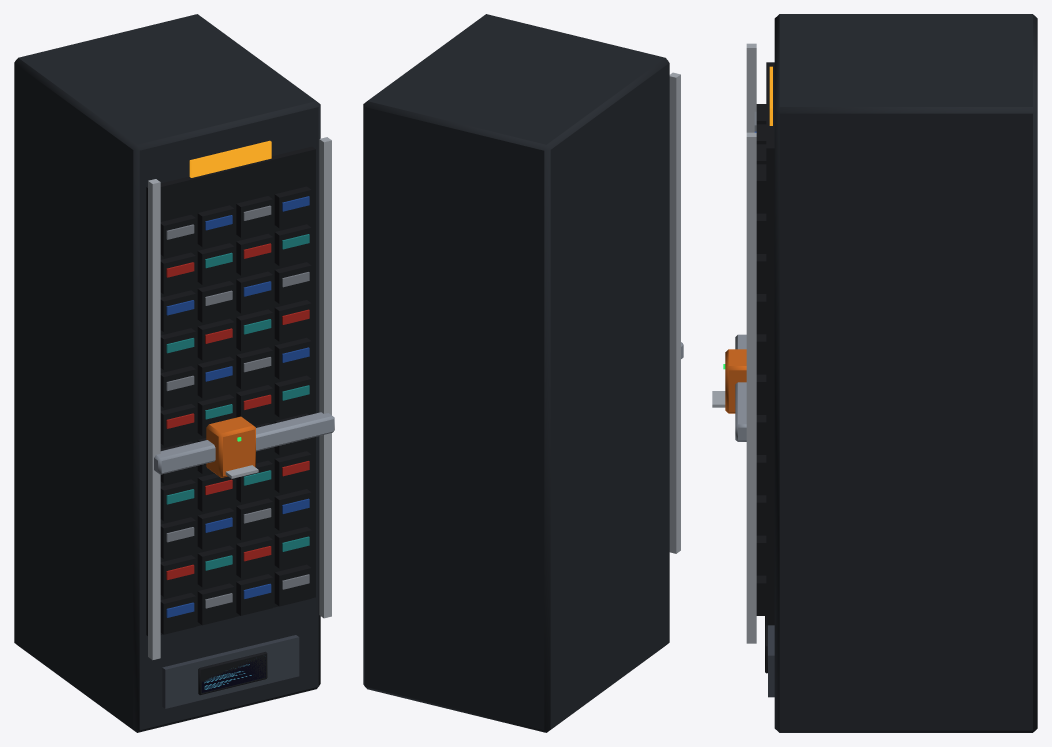
File: rack_tape_archive_tower.glb
3 views of the same model, side by side, from view 1: azimuth 30°, elevation 25°; view 2: azimuth 150°, elevation 25°; view 3: azimuth 270°, elevation 25° (orthographic). The views are drawn at different scales.
Visible parts, largest first — view 1: rack_tape_archive_tower; view 2: rack_tape_archive_tower; view 3: rack_tape_archive_tower.
Boxes of the visible parts, <box> form: rack_tape_archive_tower: <box>14,14,334,732</box>; rack_tape_archive_tower: <box>363,14,683,732</box>; rack_tape_archive_tower: <box>712,14,1037,732</box>.
Bounding box in the file's own units: 0.7 × 2.1 × 0.99.
Materials: 13 (1 with a texture image).
